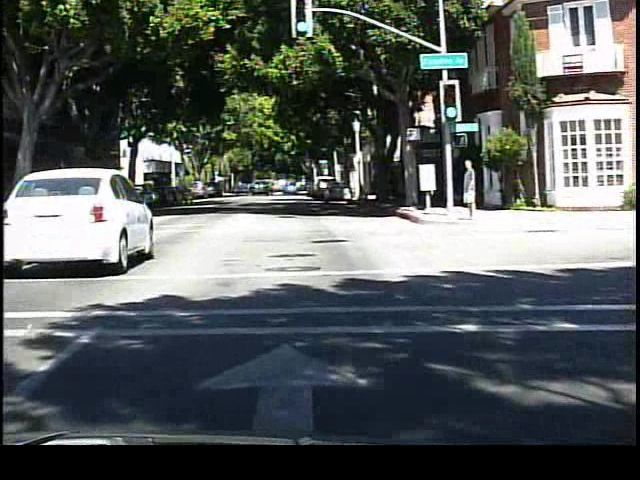person: (459, 158, 481, 220)
